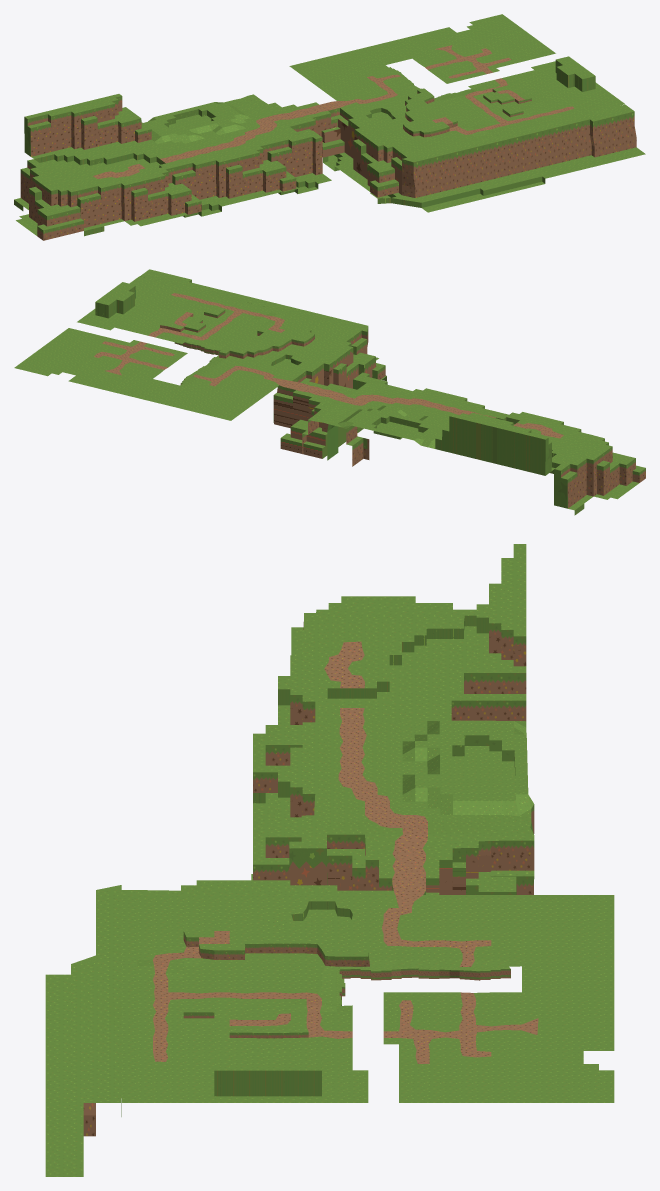
The model's file is update 5 bajillion town + forest.fbx.
The picture shows the model from 3 angles, top to bottom: view 1: azimuth 30°, elevation 25°; view 2: azimuth 150°, elevation 25°; view 3: azimuth 270°, elevation 25°; orthographic projection. The views are drawn at different scales.
Parts seen in each view (by area): view 1: Plane.019; view 2: Plane.019; view 3: Plane.019.
Boxes of the visible parts, x1=… form: Plane.019: x1=14, y1=14, x2=645, y2=240; Plane.019: x1=14, y1=269, x2=645, y2=515; Plane.019: x1=45, y1=544, x2=614, y2=1176.
Size of the model in its own units: 109854 by 14945 by 49980.
